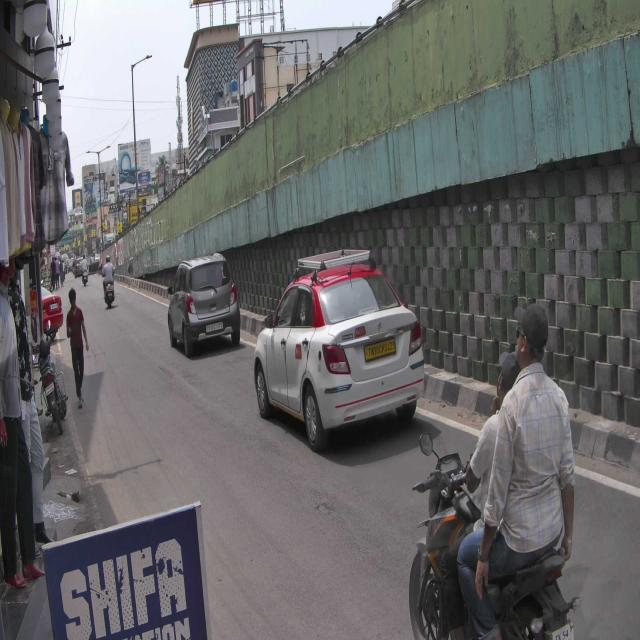double_rider: (407, 297, 580, 640)
